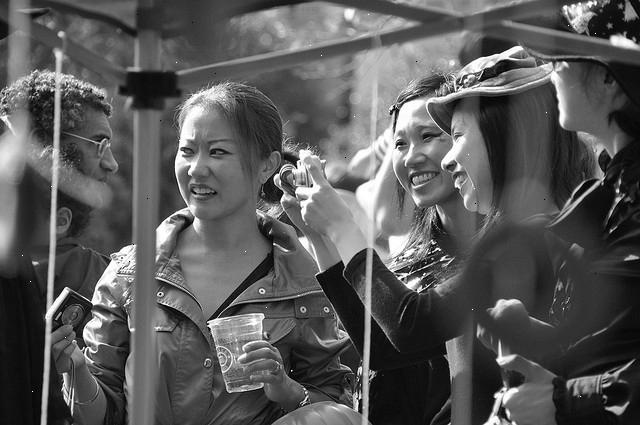cup: (207, 299, 279, 403)
